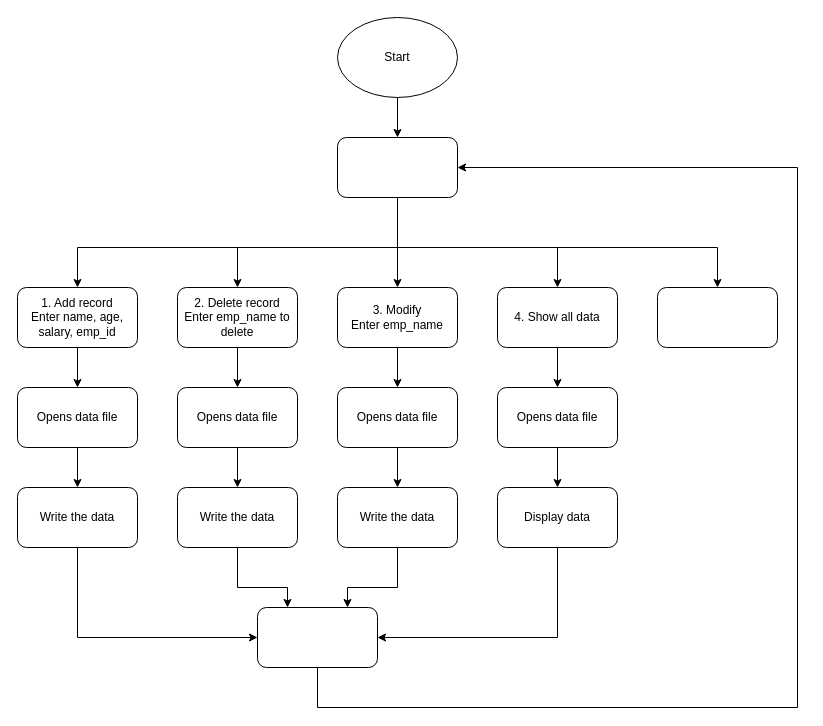
This 823x726 diagram has some shape labels left out. Here are the shapes that lost their labels. From the top down, the box of each, then its label:
(336, 136, 458, 198): Asks user to choose an option
(656, 286, 778, 348): 5. Exit
(256, 606, 378, 668): Close data file
